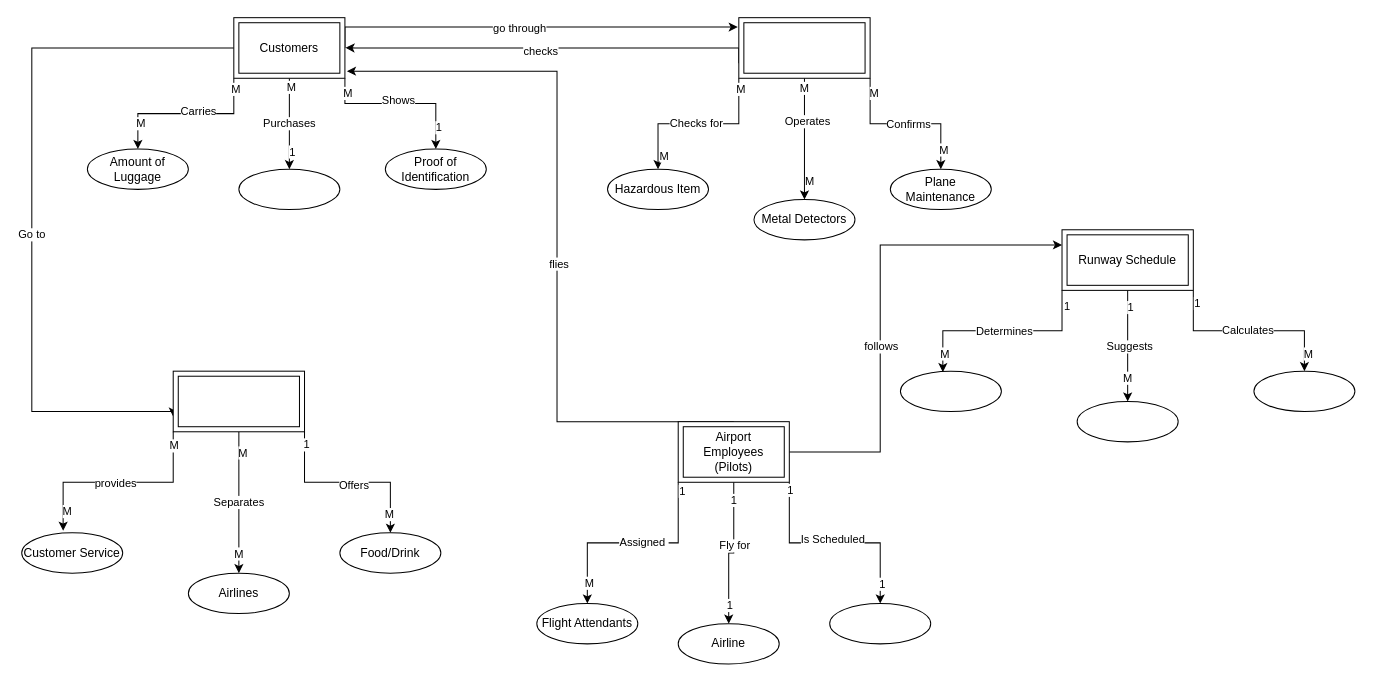
The diagram is 1373 pixels wide and 682 high, and some of its shapes have lost their labels. The centre of each missing label's shape, as x and y in pixels:
Air Travel: point 1304,391
Arrival Time: point 1127,421
Flight number: point 880,623
Plane Ticket: point 289,189
Security: point 804,47
Takeoff Time: point 950,391
Terminal: point 238,401
